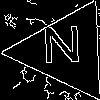N: (40, 26, 83, 73)
